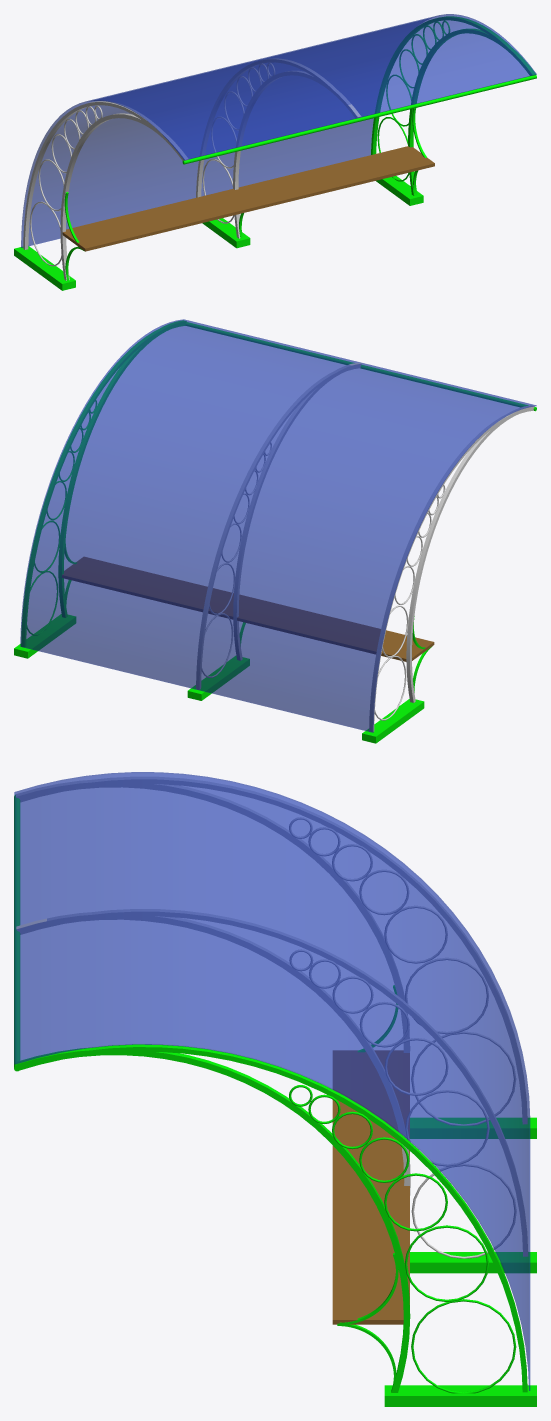
The model's file is Bus_stop_N150210.fbx.
3 renders of one model, top to bottom at view 1: azimuth 30°, elevation 25°; view 2: azimuth 150°, elevation 25°; view 3: azimuth 270°, elevation 25°, orthographic. The views are drawn at different scales.
Visible parts, largest first — view 1: _253__253__253__253__253___253__253__253_, _253__253__253__253__253_01__253__253__253__253__253_02, _253__253__253__253__253_01, Cylinder01, _253__253__253__253__253__253__253___253__253_, _253__253__253__253__253__253__253___253_0, _253__253__253__253__253__253__253___253__253___253__253__2., _253__253__253__253__253__253__253___253__253___253__253__25, _253__253__253__253__253__253__253___253_0__253__253__253__., _253__253__253__253__253__253__253___253_0__253__253__253__2, Box02_Box04, Box02_Box03 (+1 smaller); view 2: _253__253__253__253__253___253__253__253_, _253__253__253__253__253_01, _253__253__253__253__253_01__253__253__253__253__253_02, _253__253__253__253__253__253__253___253__253_, _253__253__253__253__253__253__253___253__253___253__253__2., _253__253__253__253__253__253__253___253__253___253__253__25, _253__253__253__253__253__253__253___253_0, _253__253__253__253__253__253__253___253_0__253__253__253__2, _253__253__253__253__253__253__253___253_0__253__253__253__., Cylinder01, Box02_Box04, Box02_Box03 (+1 smaller); view 3: _253__253__253__253__253___253__253__253_, _253__253__253__253__253_01__253__253__253__253__253_02, _253__253__253__253__253_01, _253__253__253__253__253__253__253___253_0__253__253__253__2, _253__253__253__253__253__253__253___253__253___253__253__25, _253__253__253__253__253__253__253___253__253_, _253__253__253__253__253__253__253___253__253___253__253__2., _253__253__253__253__253__253__253___253_0__253__253__253__., _253__253__253__253__253__253__253___253_0, Box02_Box03, Box02, Box02_Box04 (+3 smaller).
Boxes of the visible parts, x1=… form: _253__253__253__253__253___253__253__253_: x1=21, y1=14, x2=536, y2=247; _253__253__253__253__253_01__253__253__253__253__253_02: x1=237, y1=146, x2=434, y2=208; _253__253__253__253__253_01: x1=62, y1=189, x2=258, y2=251; Cylinder01: x1=182, y1=75, x2=536, y2=164; _253__253__253__253__253__253__253___253__253_: x1=23, y1=101, x2=183, y2=249; _253__253__253__253__253__253__253___253_0: x1=60, y1=113, x2=188, y2=280; _253__253__253__253__253__253__253___253__253___253__253__2.: x1=196, y1=58, x2=356, y2=197; _253__253__253__253__253__253__253___253__253___253__253__25: x1=371, y1=16, x2=531, y2=154; _253__253__253__253__253__253__253___253_0__253__253__253__.: x1=233, y1=71, x2=361, y2=238; _253__253__253__253__253__253__253___253_0__253__253__253__2: x1=408, y1=29, x2=536, y2=195; Box02_Box04: x1=14, y1=246, x2=75, y2=290; Box02_Box03: x1=376, y1=176, x2=423, y2=205; _253__253__253__253__253___253__253__253_: x1=20, y1=319, x2=536, y2=732; _253__253__253__253__253_01: x1=237, y1=599, x2=434, y2=661; _253__253__253__253__253_01__253__253__253__253__253_02: x1=62, y1=557, x2=256, y2=619; _253__253__253__253__253__253__253___253__253_: x1=369, y1=408, x2=533, y2=732; _253__253__253__253__253__253__253___253__253___253__253__2.: x1=196, y1=365, x2=360, y2=689; _253__253__253__253__253__253__253___253__253___253__253__25: x1=21, y1=325, x2=185, y2=647; _253__253__253__253__253__253__253___253_0: x1=406, y1=405, x2=534, y2=702; _253__253__253__253__253__253__253___253_0__253__253__253__2: x1=58, y1=320, x2=186, y2=617; _253__253__253__253__253__253__253___253_0__253__253__253__.: x1=233, y1=362, x2=361, y2=660; Cylinder01: x1=186, y1=322, x2=536, y2=411; Box02_Box04: x1=362, y1=699, x2=424, y2=743; Box02_Box03: x1=14, y1=614, x2=75, y2=658; _253__253__253__253__253___253__253__253_: x1=14, y1=772, x2=530, y2=1390; _253__253__253__253__253_01__253__253__253__253__253_02: x1=332, y1=1186, x2=409, y2=1324; _253__253__253__253__253_01: x1=332, y1=1050, x2=409, y2=1185; _253__253__253__253__253__253__253___253_0__253__253__253__2: x1=16, y1=1048, x2=410, y2=1392; _253__253__253__253__253__253__253___253__253___253__253__25: x1=19, y1=1044, x2=527, y2=1392; _253__253__253__253__253__253__253___253__253_: x1=19, y1=777, x2=527, y2=1124; _253__253__253__253__253__253__253___253__253___253__253__2.: x1=19, y1=909, x2=527, y2=1256; _253__253__253__253__253__253__253___253_0__253__253__253__.: x1=16, y1=912, x2=410, y2=1195; _253__253__253__253__253__253__253___253_0: x1=16, y1=780, x2=409, y2=1052; Box02_Box03: x1=384, y1=1385, x2=536, y2=1406; Box02: x1=410, y1=1252, x2=536, y2=1273; Box02_Box04: x1=410, y1=1117, x2=536, y2=1138.
Size of the model in its own units: 10256 by 6185 by 8139.
